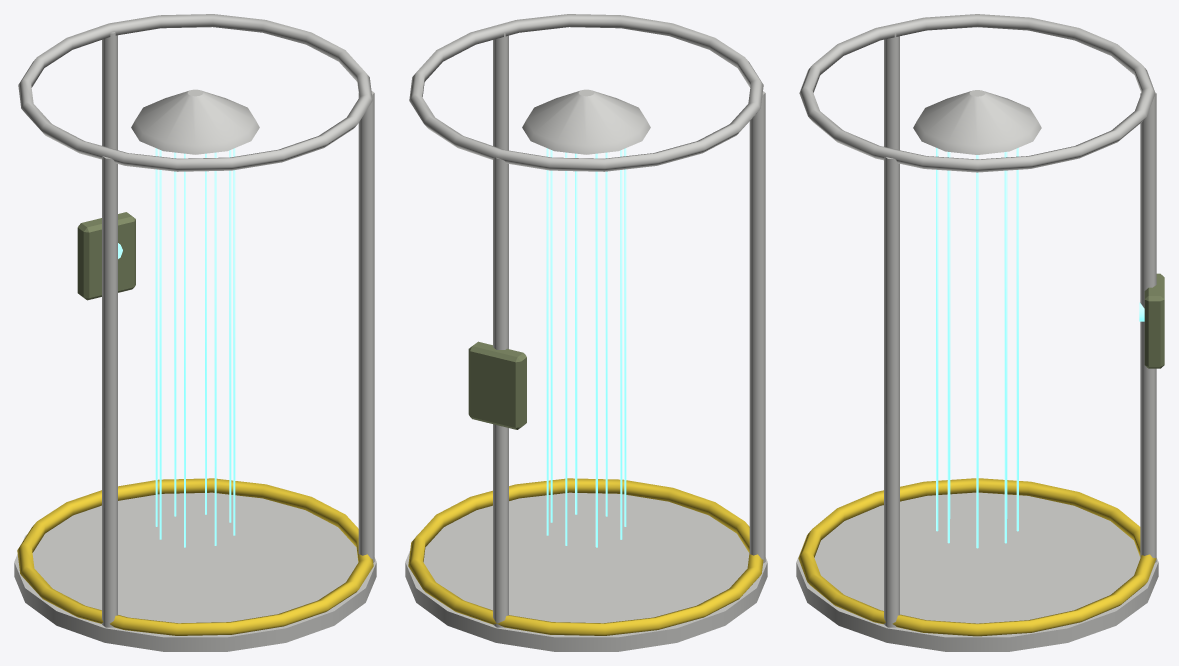
Rendered from bk_shower.glb.
3 views of the same model, side by side, from view 1: azimuth 30°, elevation 25°; view 2: azimuth 150°, elevation 25°; view 3: azimuth 270°, elevation 25° (orthographic).
Visible parts, largest first — view 1: bk_shower; view 2: bk_shower; view 3: bk_shower.
Part boxes in pixels (left/top/right/bottom): bk_shower: left=14, top=14, right=376, bottom=651; bk_shower: left=405, top=14, right=767, bottom=651; bk_shower: left=796, top=14, right=1164, bottom=651.
Bounding box in the file's own units: 1.78 × 2.68 × 1.83.
